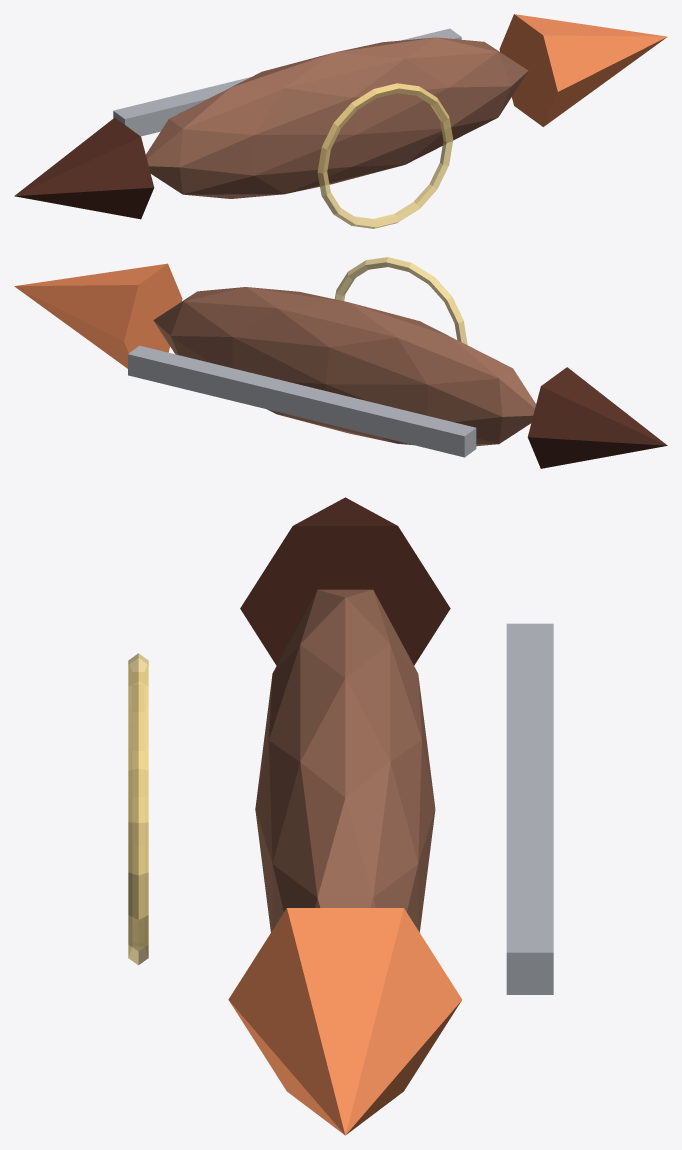
The model's file is 05_skyship_hull.glb.
3 views of the same model, one above another, from view 1: azimuth 30°, elevation 25°; view 2: azimuth 150°, elevation 25°; view 3: azimuth 270°, elevation 25° (orthographic). The views are drawn at different scales.
Parts seen in each view (by area): view 1: hull_low_poly, bow_upgrade, stern_fin, size_class_ring, keel_plate; view 2: hull_low_poly, keel_plate, bow_upgrade, stern_fin, size_class_ring; view 3: hull_low_poly, bow_upgrade, keel_plate, stern_fin, size_class_ring.
Boxes of the visible parts, bbox=[...] form: hull_low_poly: bbox=[146, 37, 528, 198]; bow_upgrade: bbox=[499, 14, 667, 126]; stern_fin: bbox=[14, 117, 154, 219]; size_class_ring: bbox=[317, 83, 453, 228]; keel_plate: bbox=[113, 28, 461, 136]; hull_low_poly: bbox=[153, 287, 535, 446]; keel_plate: bbox=[128, 345, 476, 457]; bow_upgrade: bbox=[14, 263, 182, 368]; stern_fin: bbox=[527, 367, 667, 468]; size_class_ring: bbox=[334, 257, 467, 344]; hull_low_poly: bbox=[255, 589, 435, 932]; bow_upgrade: bbox=[228, 908, 462, 1135]; keel_plate: bbox=[506, 623, 553, 994]; stern_fin: bbox=[240, 497, 450, 665]; size_class_ring: bbox=[128, 653, 148, 965].
Bounding box in the file's own units: 2.45 × 0.5015 × 0.6903.
